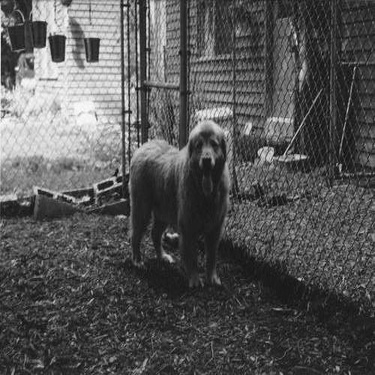dog: (122, 119, 232, 296)
